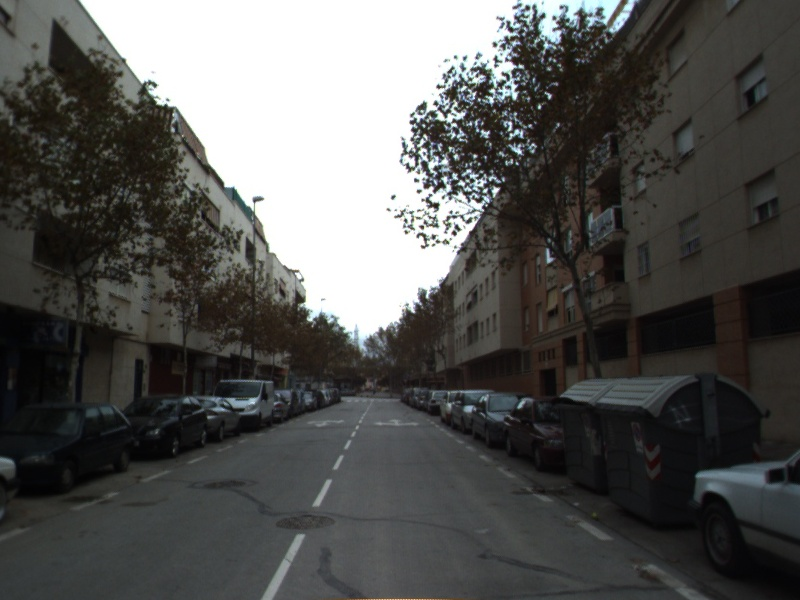STRAIGHT_LEFT_RIGHT: (372, 416, 422, 429)
